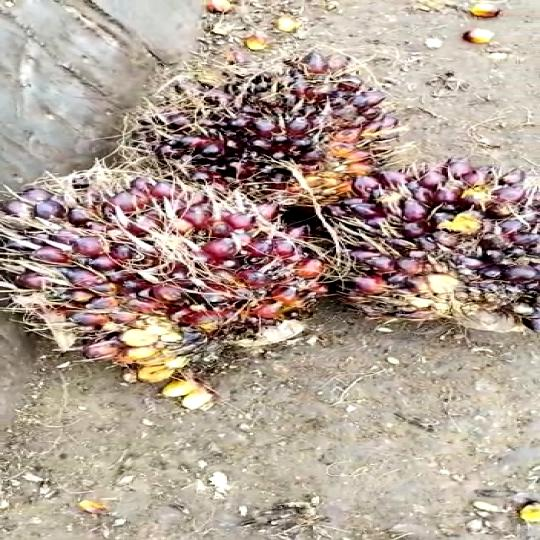kurang masak: (0, 159, 313, 411), (297, 128, 540, 362), (136, 50, 444, 206)
